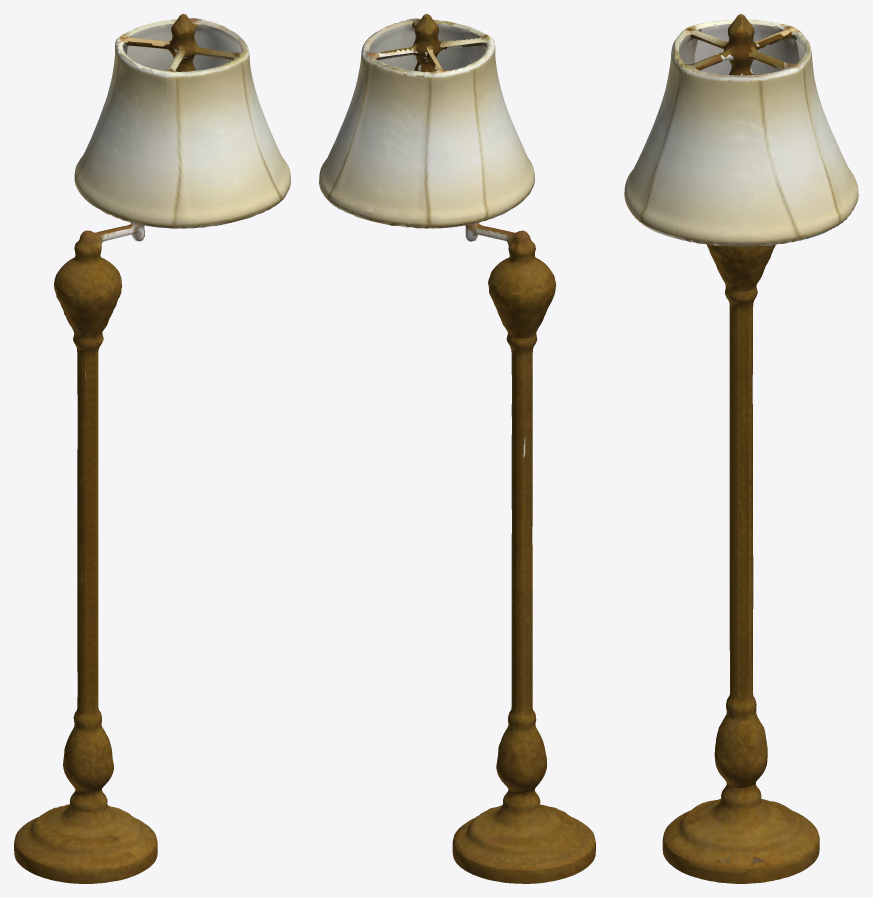
File: lamp__lamp#4.glb
The picture shows the model from 3 angles, left to right: view 1: azimuth 30°, elevation 25°; view 2: azimuth 150°, elevation 25°; view 3: azimuth 270°, elevation 25°; orthographic projection. The views are drawn at different scales.
Visible parts, largest first — view 1: tmpx6fg544l.ply; view 2: tmpx6fg544l.ply; view 3: tmpx6fg544l.ply.
Boxes of the visible parts, left/top/right/bottom form: tmpx6fg544l.ply: left=14, top=14, right=290, bottom=883; tmpx6fg544l.ply: left=319, top=14, right=595, bottom=883; tmpx6fg544l.ply: left=624, top=14, right=858, bottom=883.
Size of the model in its own units: 0.6412 by 1.99 by 0.4738.
1 material, 1 textured.
